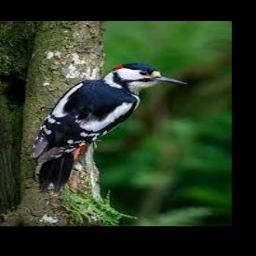Woodpecker: (29, 63, 187, 193)
